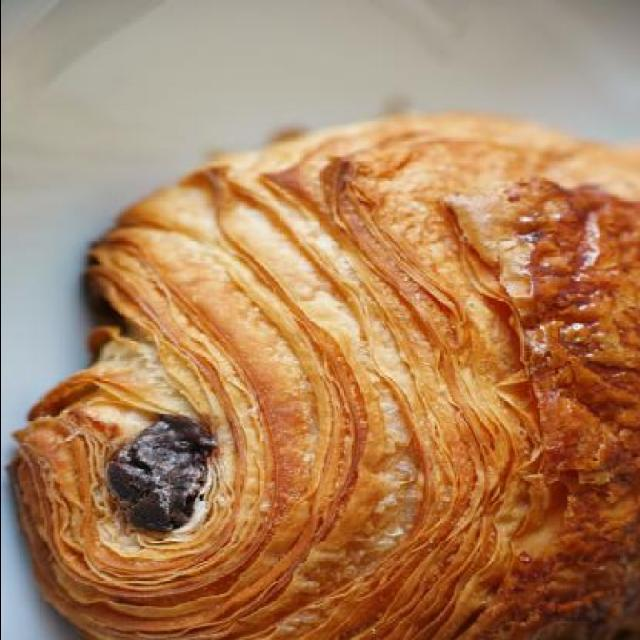Croissant: (1, 122, 619, 640)
